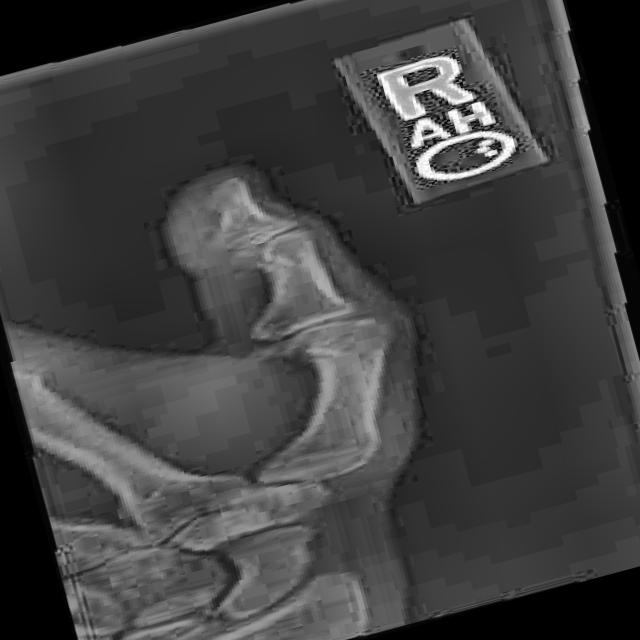fingers positive: (202, 226, 347, 285)
